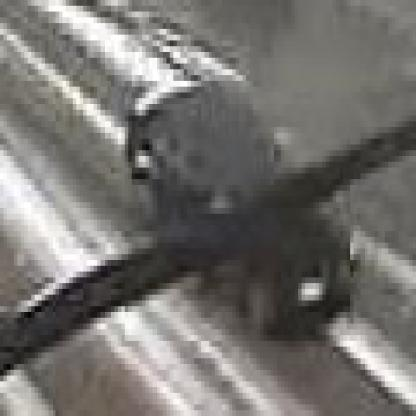car: (126, 82, 355, 348)
